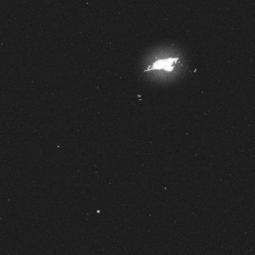lisa_pathfinder: (117, 27, 213, 99)
